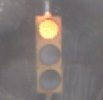Red: (35, 12, 69, 100)
